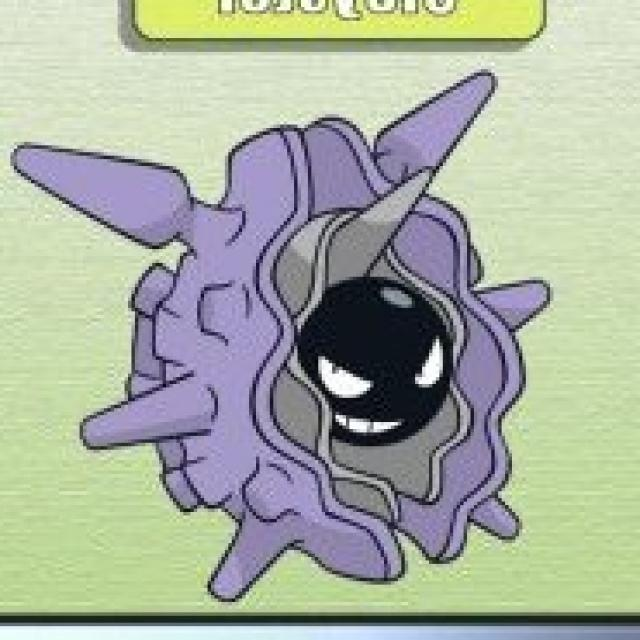Cloyster: (128, 70, 543, 564)
